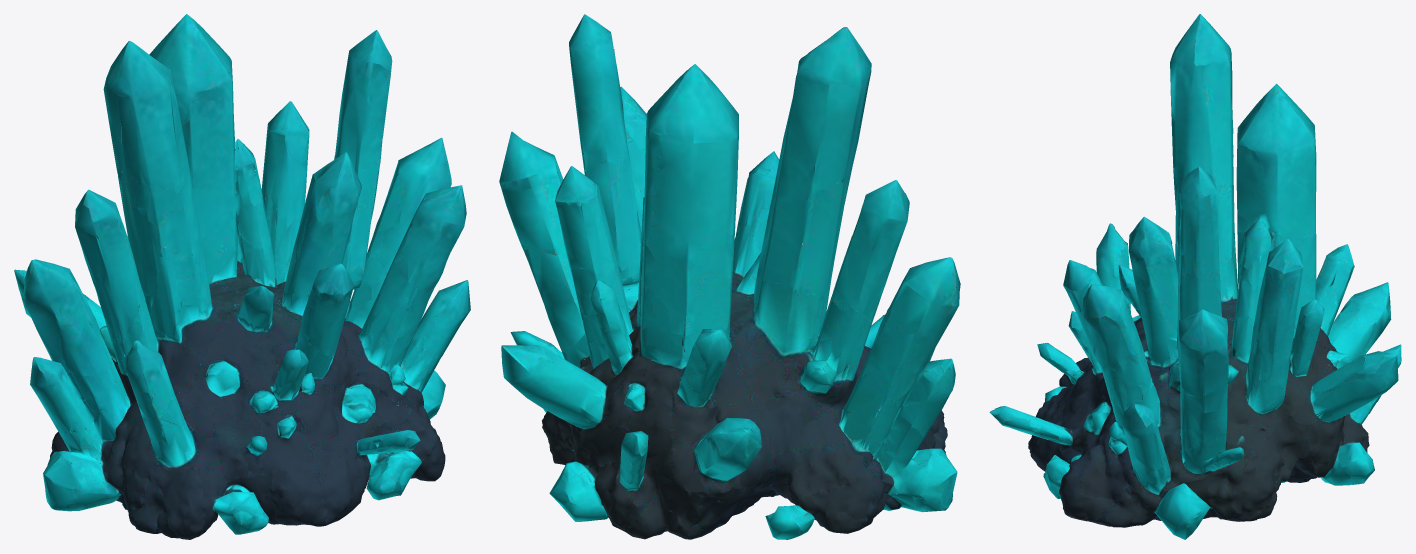
File: echo_cluster.glb
3 renders of one model, left to right at view 1: azimuth 30°, elevation 25°; view 2: azimuth 150°, elevation 25°; view 3: azimuth 270°, elevation 25°, orthographic. The views are drawn at different scales.
Visible parts, largest first — view 1: Mesh_0; view 2: Mesh_0; view 3: Mesh_0.
Boxes of the visible parts, x1,y1,x2,y2 form: Mesh_0: (14,14,470,539); Mesh_0: (499,14,960,539); Mesh_0: (989,14,1401,539).
Bounding box in the file's own units: 1.9 × 1.89 × 1.76.
Materials: 1 (1 with a texture image).
